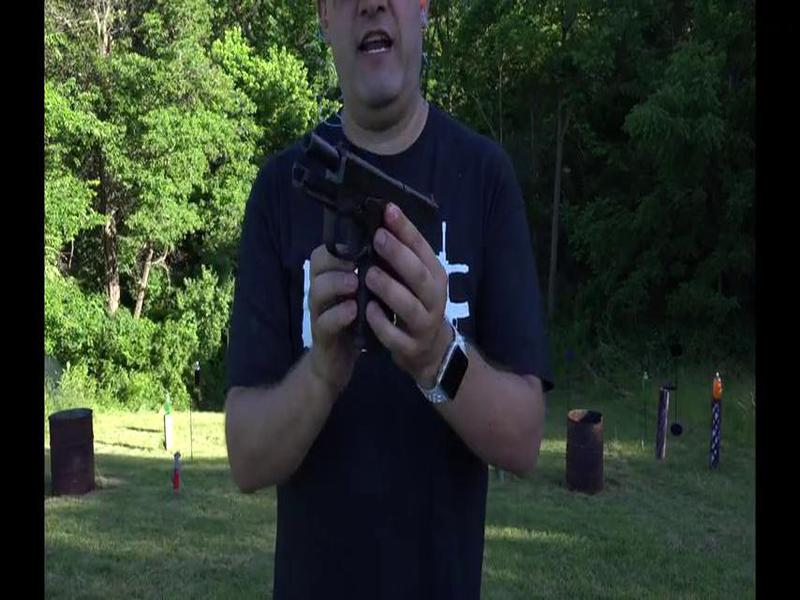Pistola: (287, 124, 468, 386)
